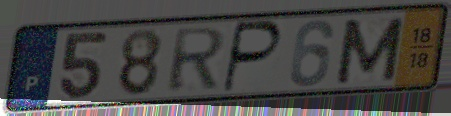5: (58, 30, 112, 102)
6: (286, 18, 336, 89)
8: (117, 27, 165, 98)
M: (332, 15, 408, 87)
P: (219, 19, 285, 96)
R: (164, 25, 229, 95)
